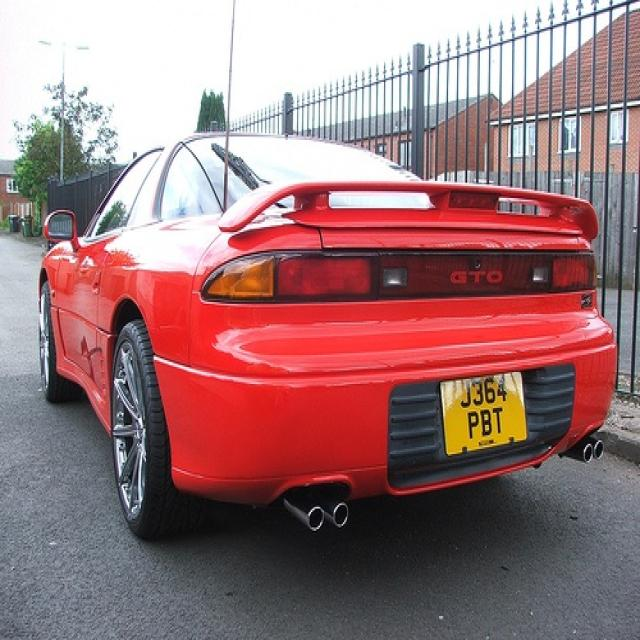car: (31, 125, 624, 550)
